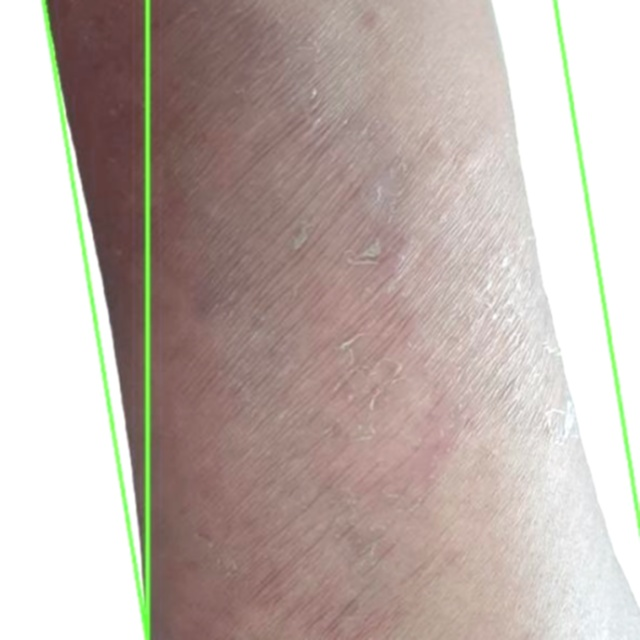Tinea Corporis: (44, 0, 639, 639), (0, 0, 147, 639)
